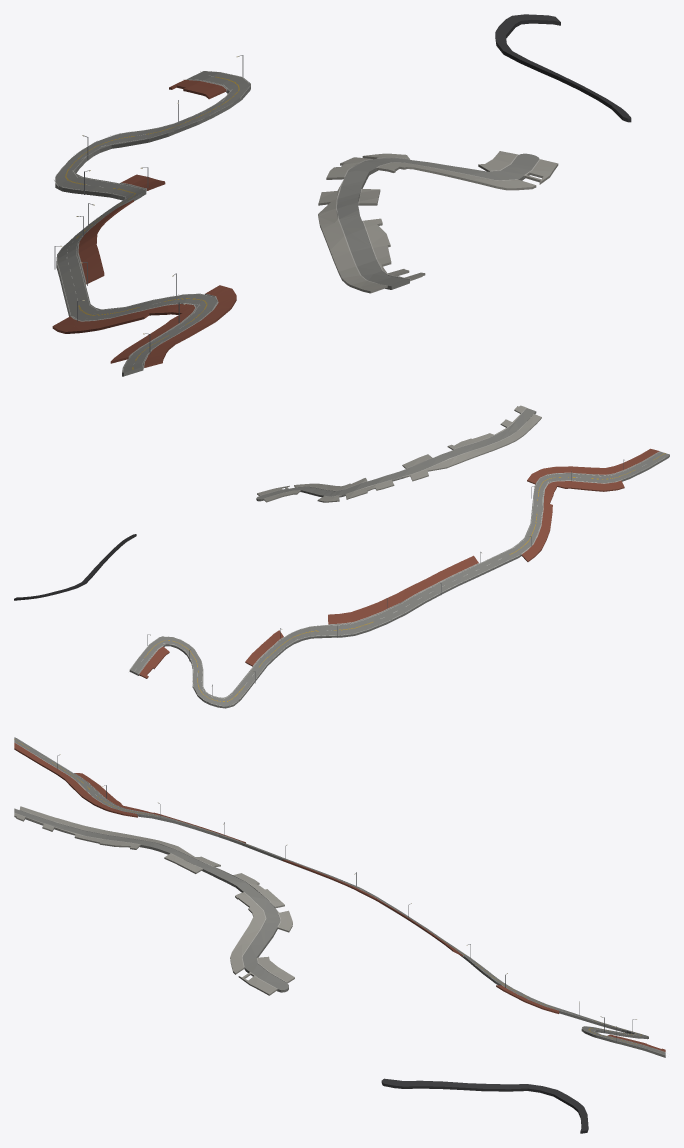
The picture shows the model from 3 angles, top to bottom: view 1: azimuth 30°, elevation 25°; view 2: azimuth 150°, elevation 25°; view 3: azimuth 270°, elevation 25°; orthographic projection. The views are drawn at different scales.
Size of the model in its own units: 293 by 91.07 by 294.
